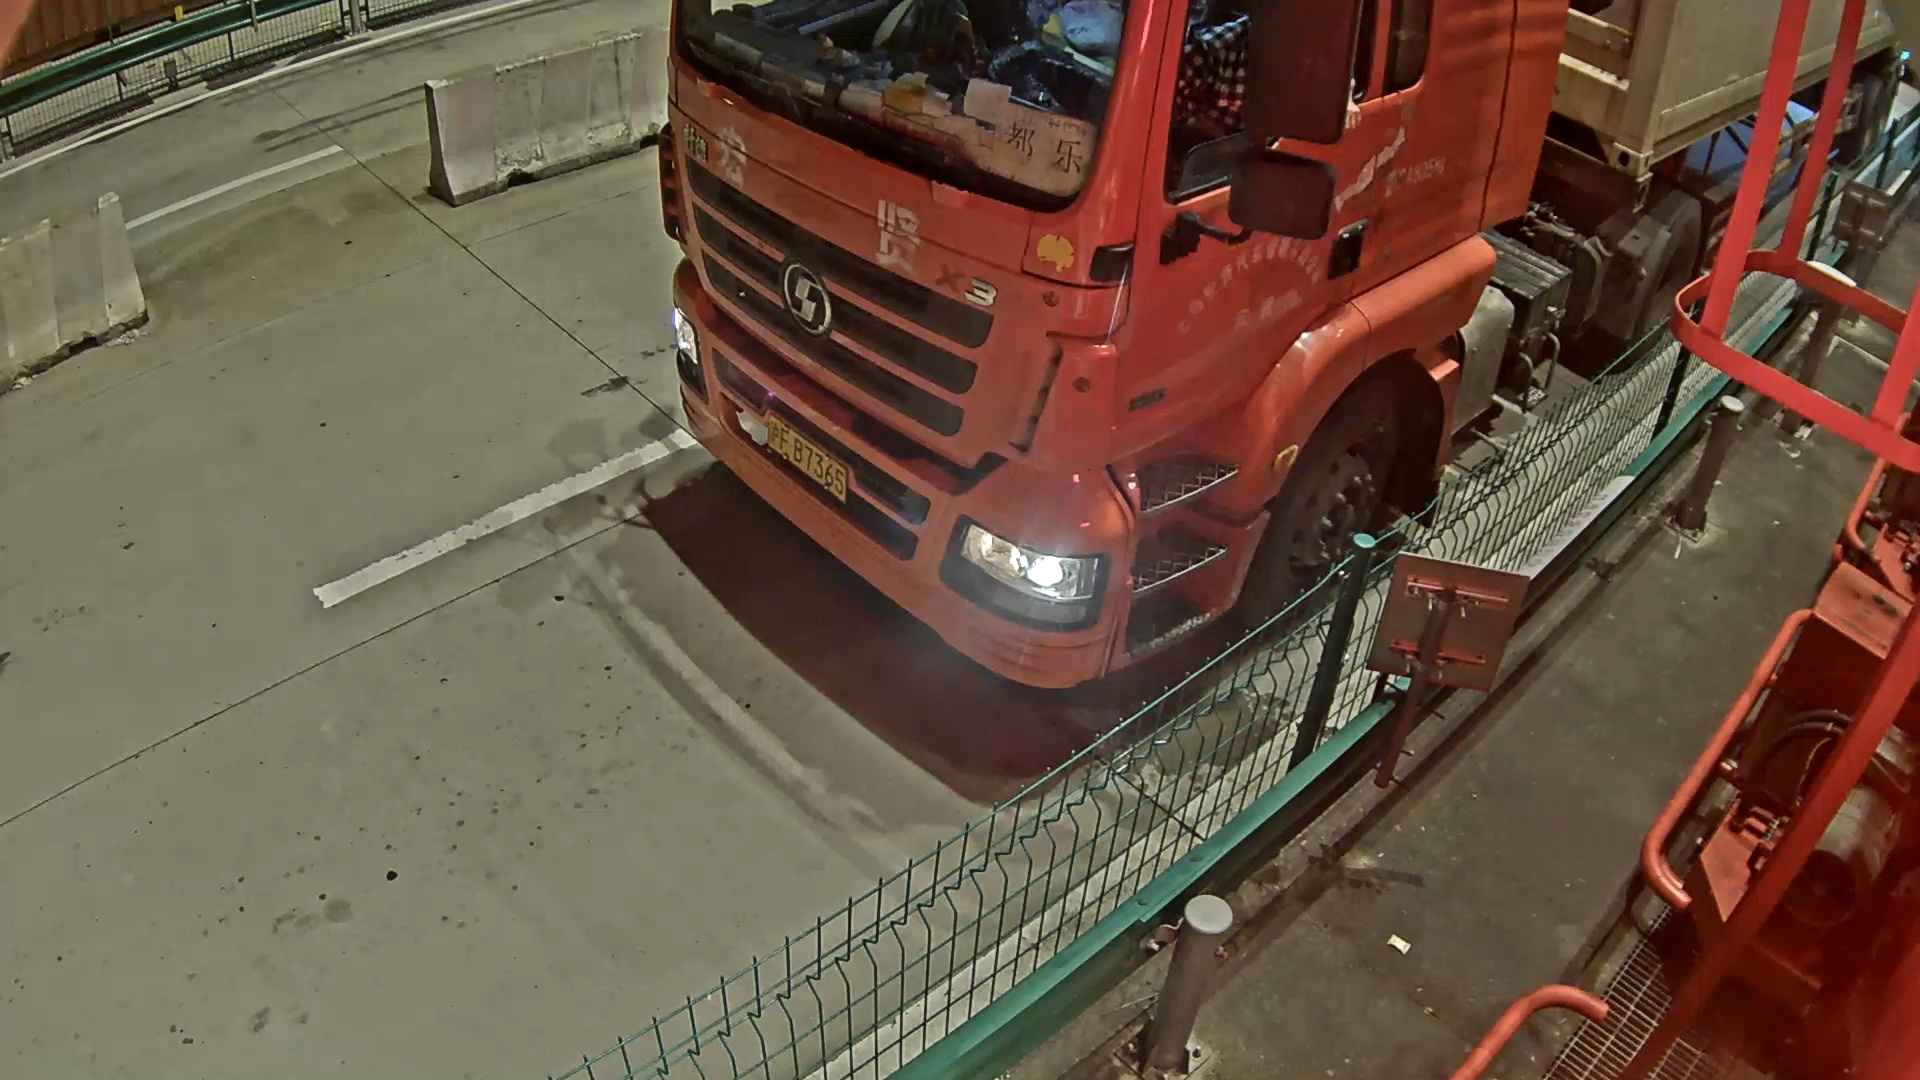head: (675, 1, 1571, 687)
plate: (764, 412, 853, 500)
